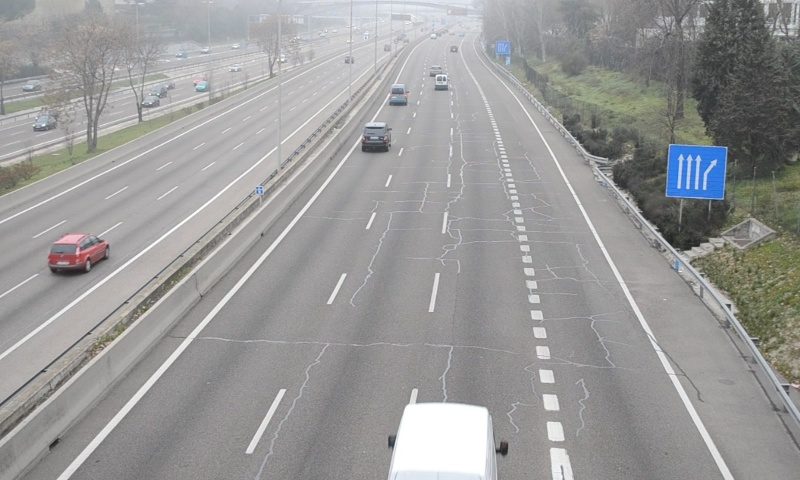car: (361, 122, 391, 150)
van: (387, 402, 500, 480), (389, 82, 408, 104)
